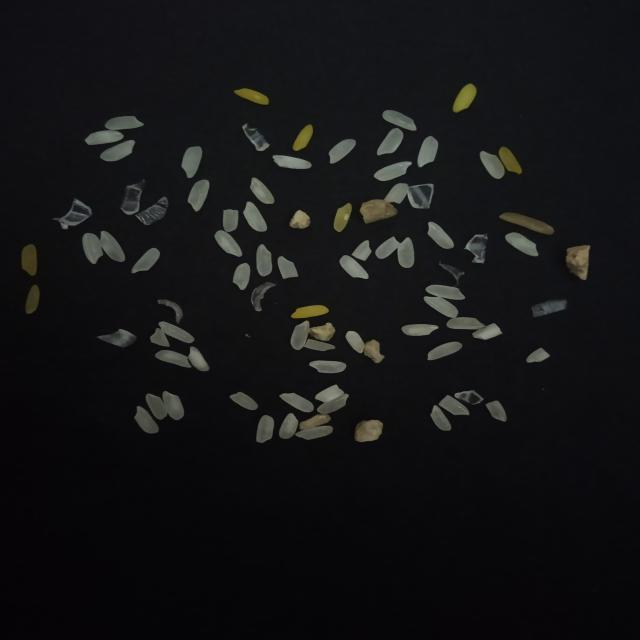Broken: (499, 212, 555, 235), (452, 84, 477, 114), (438, 394, 470, 416), (498, 146, 523, 174), (234, 88, 269, 105), (292, 124, 314, 151), (375, 236, 400, 259), (314, 384, 344, 403), (333, 203, 352, 232), (230, 392, 258, 411), (277, 256, 300, 279), (290, 305, 330, 318), (22, 244, 38, 276), (472, 323, 502, 340), (384, 183, 408, 204), (485, 400, 507, 422), (304, 338, 336, 352), (351, 240, 372, 261), (25, 285, 40, 314), (150, 328, 170, 347), (223, 209, 239, 232), (526, 348, 550, 363)
Full: (505, 232, 539, 257), (100, 231, 126, 262), (100, 140, 136, 162), (158, 322, 194, 344), (376, 128, 404, 156), (373, 162, 412, 182), (427, 222, 455, 249), (131, 248, 160, 274), (424, 296, 458, 318), (382, 110, 417, 131), (215, 230, 242, 257), (188, 179, 210, 212), (243, 202, 267, 232), (339, 255, 369, 279), (417, 136, 439, 168), (181, 146, 203, 178), (134, 406, 159, 434), (279, 392, 314, 412), (480, 151, 505, 179), (82, 233, 104, 264), (329, 139, 356, 164), (250, 177, 275, 204), (155, 350, 192, 368), (427, 342, 462, 361), (317, 394, 349, 414), (162, 391, 184, 420), (145, 393, 168, 420), (84, 130, 124, 145), (290, 320, 310, 350), (426, 285, 466, 300), (104, 116, 145, 130), (430, 405, 452, 431), (255, 244, 272, 277), (278, 412, 298, 440), (272, 155, 312, 169), (188, 346, 209, 372), (295, 426, 333, 440), (309, 360, 347, 374), (232, 262, 251, 290), (398, 238, 415, 268), (256, 415, 274, 443), (446, 317, 487, 329), (345, 331, 365, 353), (402, 324, 438, 336)
